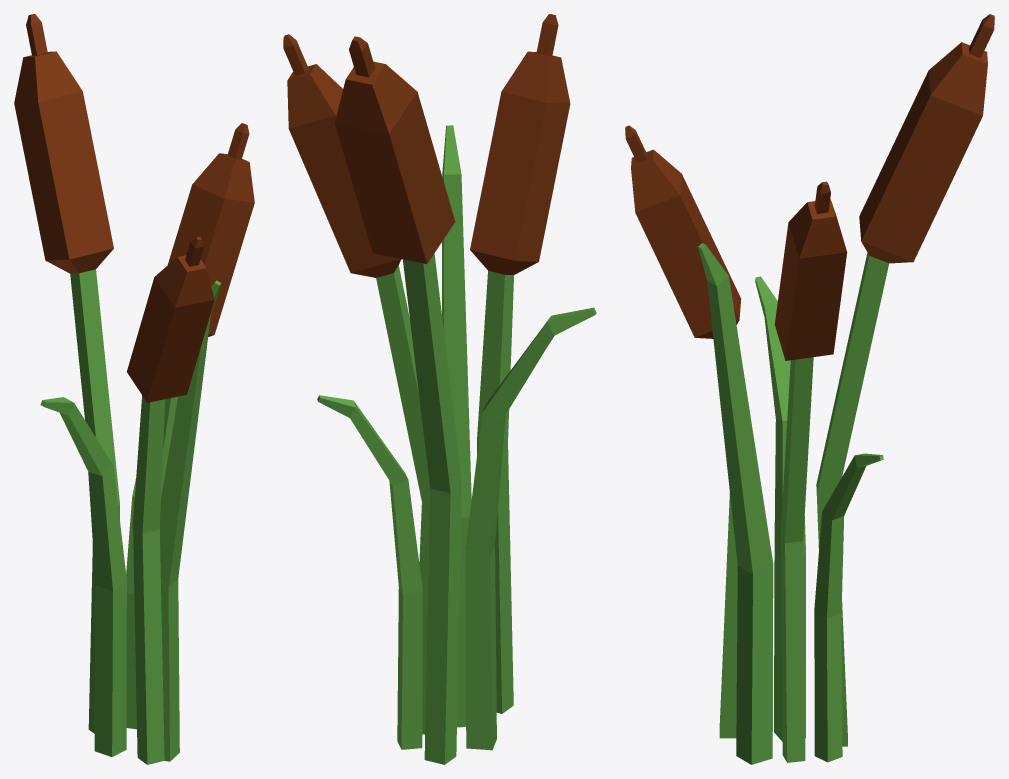
Rendered from PondGrass02.fbx.
The picture shows the model from 3 angles, left to right: view 1: azimuth 30°, elevation 25°; view 2: azimuth 150°, elevation 25°; view 3: azimuth 270°, elevation 25°; orthographic projection. The views are drawn at different scales.
Parts seen in each view (by area): view 1: Cube.001, Cube.002, Cube.005, Cube, Cube.003, Cube.004; view 2: Cube.001, Cube.002, Cube, Cube.005, Cube.004, Cube.003; view 3: Cube.001, Cube, Cube.003, Cube.002, Cube.004, Cube.005.
Boxes of the visible parts, x1,y1,x2,y2 form: Cube.001: (14,14,119,733); Cube.002: (127,237,214,764); Cube.005: (40,397,126,756); Cube: (161,123,254,498); Cube.003: (160,280,221,761); Cube.004: (126,478,136,729); Cube.001: (335,36,461,764); Cube.002: (470,14,570,713); Cube: (283,34,430,734); Cube.005: (465,307,596,750); Cube.004: (317,395,422,749); Cube.003: (442,125,471,727); Cube.001: (816,14,994,746); Cube: (774,181,847,762); Cube.003: (698,243,773,764); Cube.002: (625,125,741,738); Cube.004: (814,453,883,762); Cube.005: (755,276,805,741).
Size of the model in its own units: 106 by 287 by 132.
